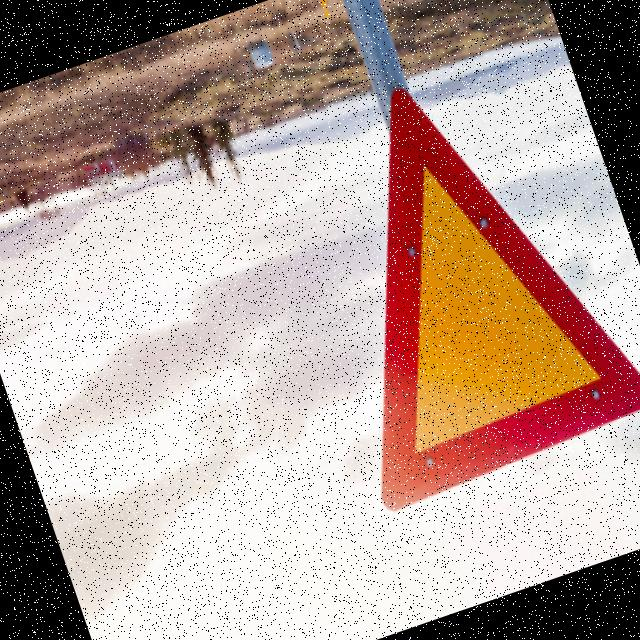give_way: (247, 37, 640, 548)
